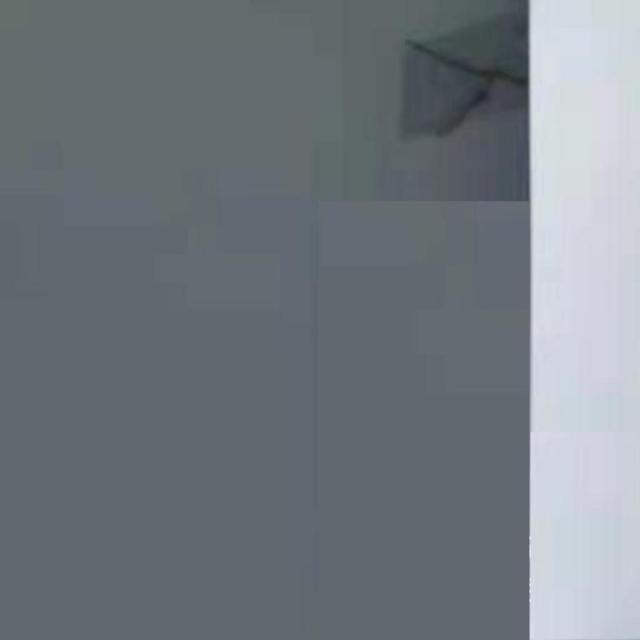crack: (409, 46, 527, 135)
